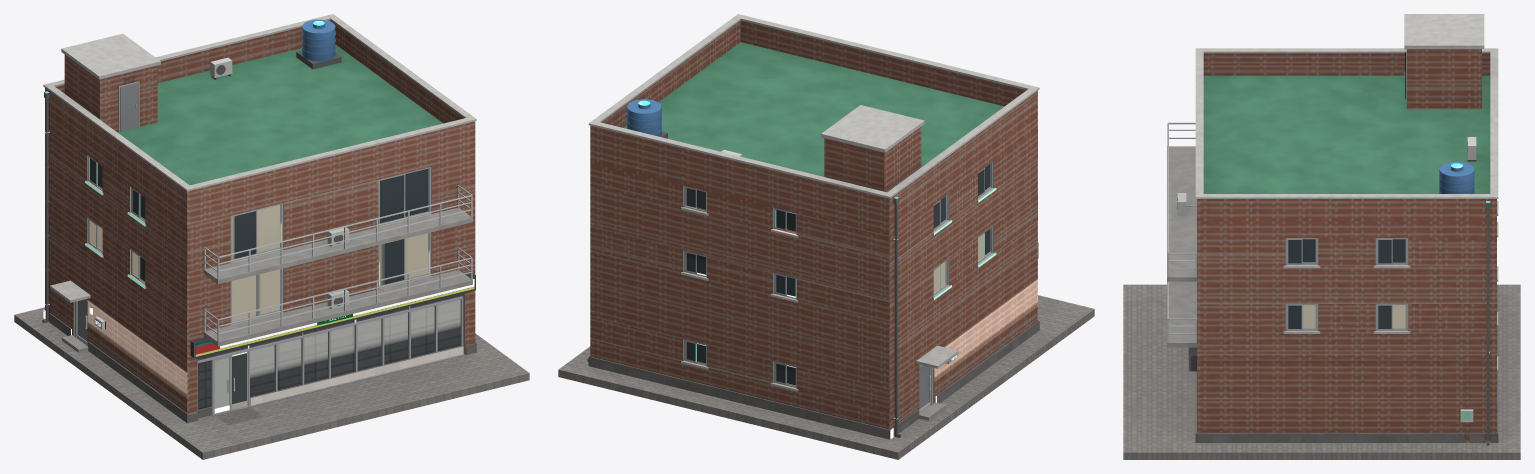
Rendered from IlsanShop01_LOD1.fbx.
3 renders of one model, left to right at view 1: azimuth 30°, elevation 25°; view 2: azimuth 150°, elevation 25°; view 3: azimuth 270°, elevation 25°, orthographic. The views are drawn at different scales.
Parts seen in each view (by area): view 1: IlsanShop01_LOD1; view 2: IlsanShop01_LOD1; view 3: IlsanShop01_LOD1.
Boxes of the visible parts, x1=… form: IlsanShop01_LOD1: x1=14, y1=14, x2=529, y2=459; IlsanShop01_LOD1: x1=558, y1=14, x2=1094, y2=459; IlsanShop01_LOD1: x1=1123, y1=14, x2=1520, y2=459.
Bounding box in the file's own units: 15.95 × 12.95 × 15.9.
1 material, 1 textured.
